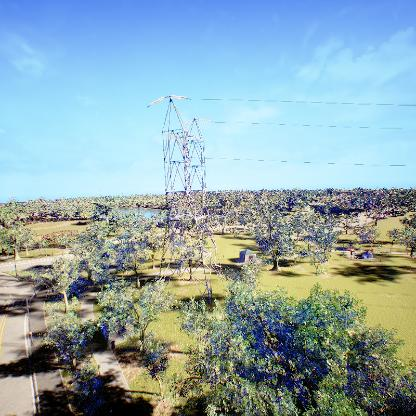tower: (168, 94, 209, 301)
